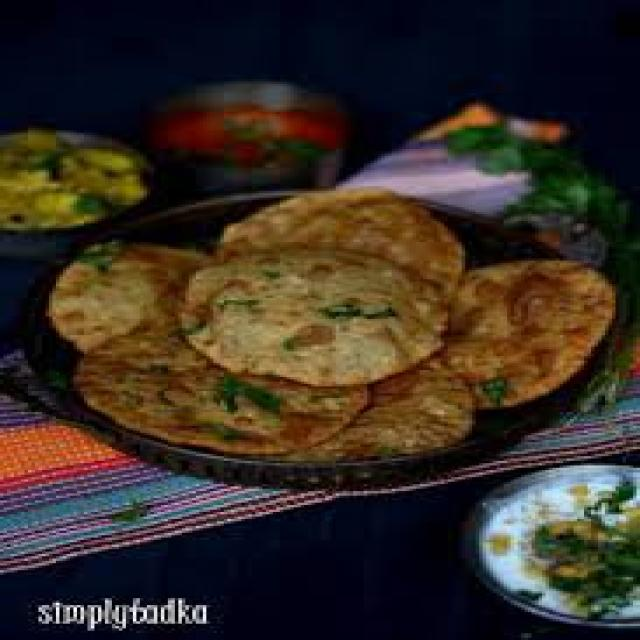puri: (39, 237, 588, 442)
